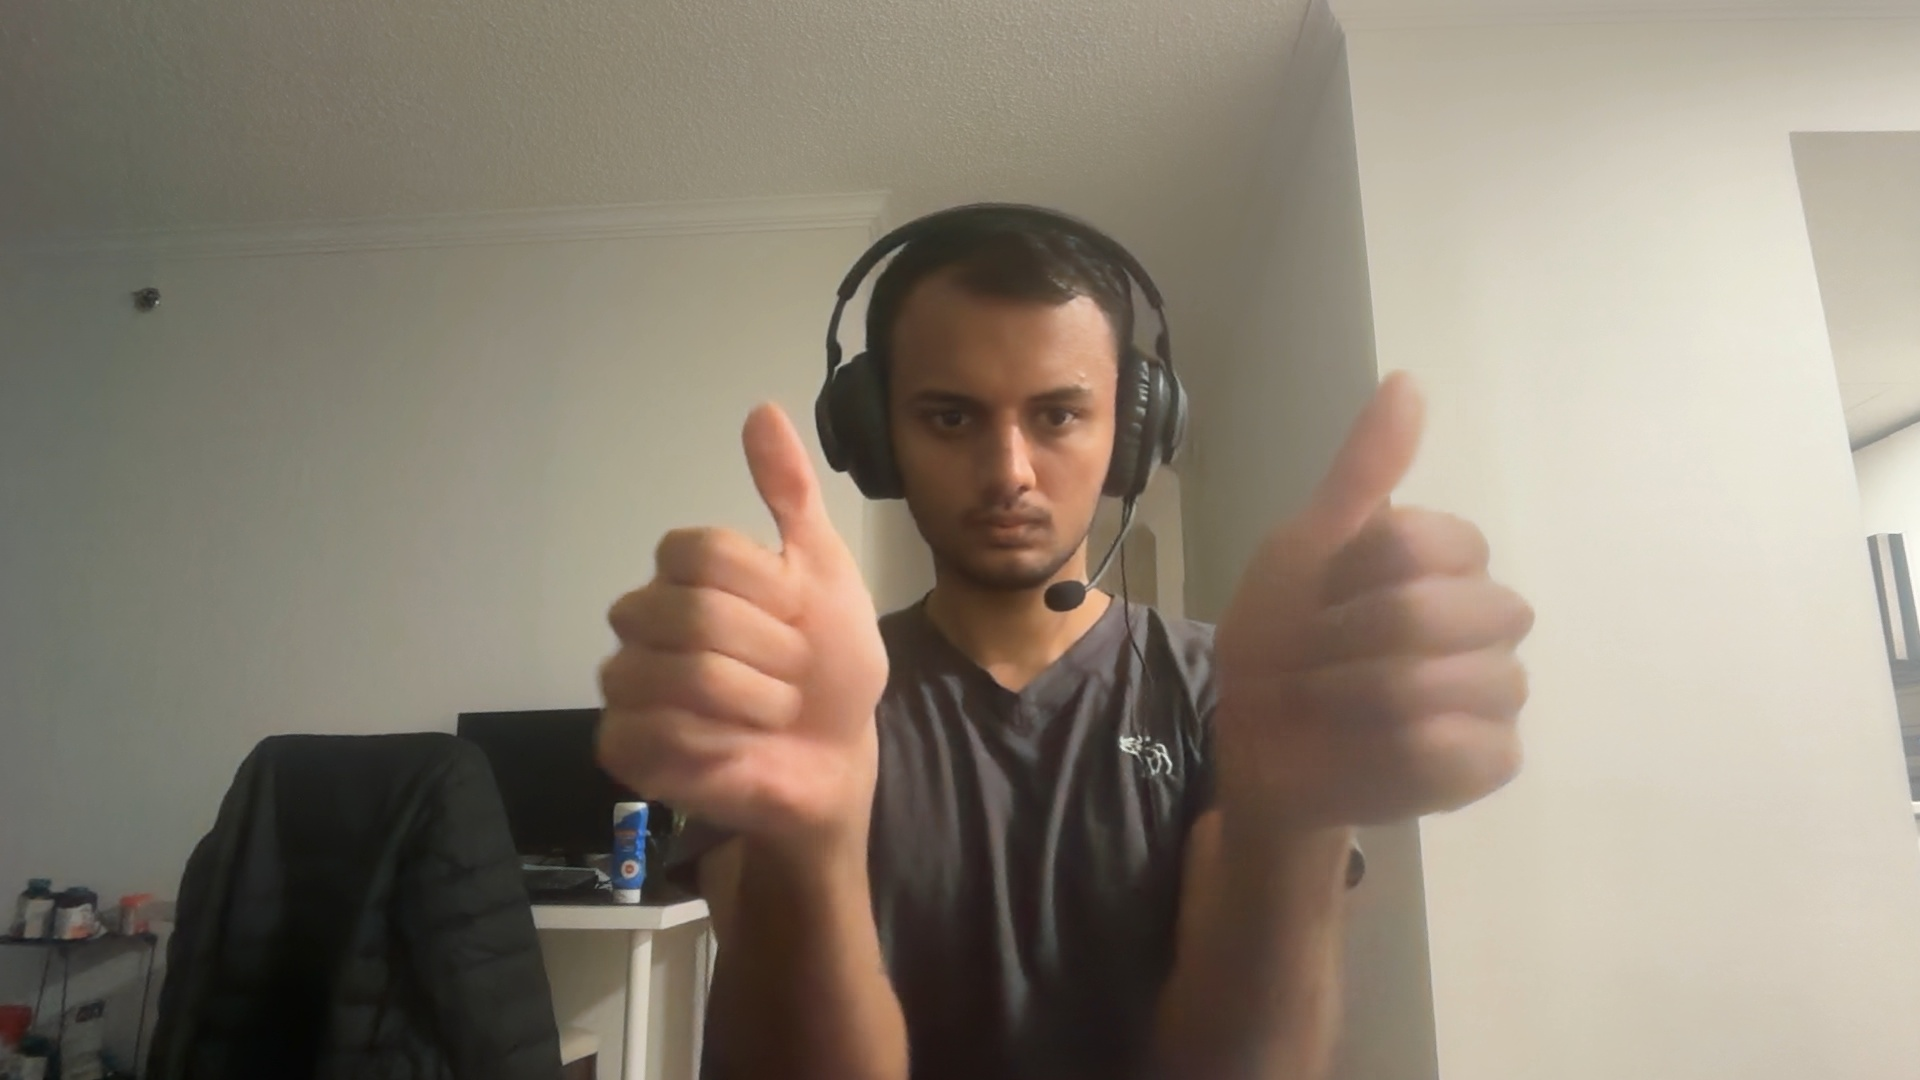thumbsup: (595, 400, 890, 848)
